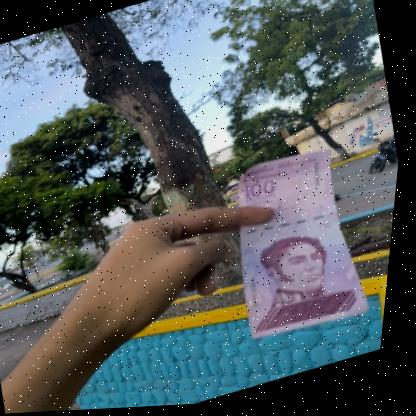one_hundred-front-vef: (216, 141, 390, 349)
